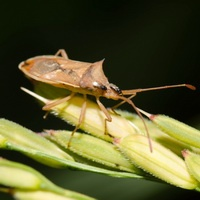insect: (19, 49, 199, 151)
